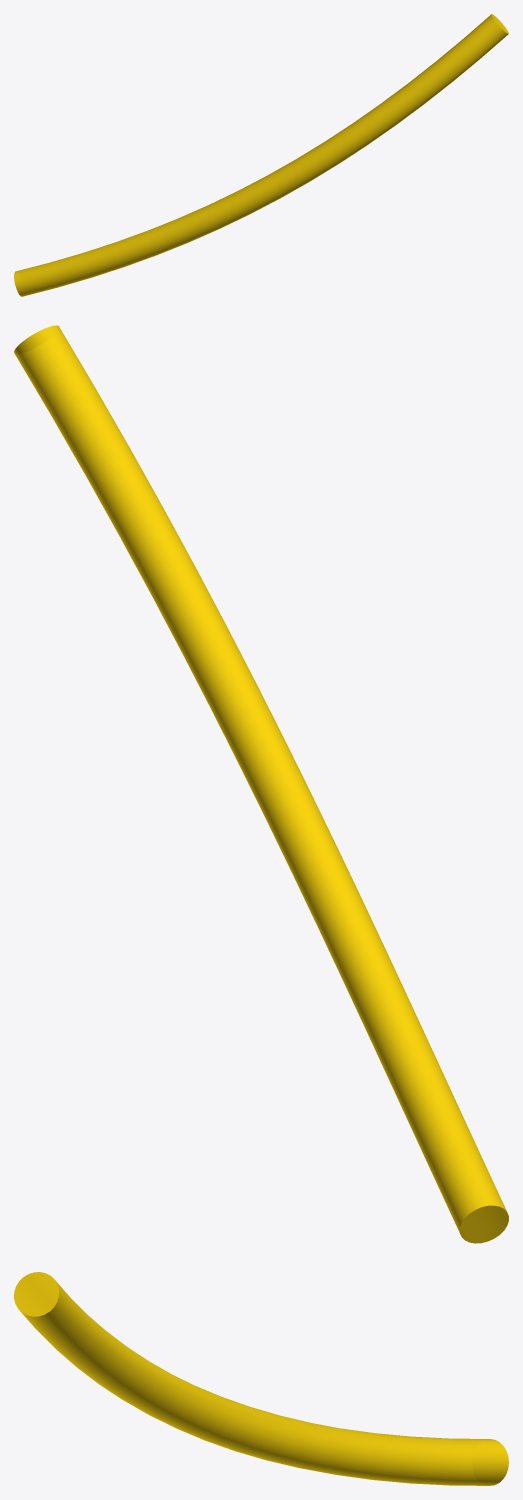
The model's file is Event_421115418_track_46.fbx.
3 renders of one model, top to bottom at view 1: azimuth 30°, elevation 25°; view 2: azimuth 150°, elevation 25°; view 3: azimuth 270°, elevation 25°, orthographic. The views are drawn at different scales.
Parts seen in each view (by area): view 1: Model; view 2: Model; view 3: Model.
Boxes of the visible parts, x1,y1,x2,y2 form: Model: [14, 14, 508, 296]; Model: [14, 325, 508, 1243]; Model: [14, 1272, 508, 1485].
Bounding box in the file's own units: 0.647 × 0.4809 × 0.422.
